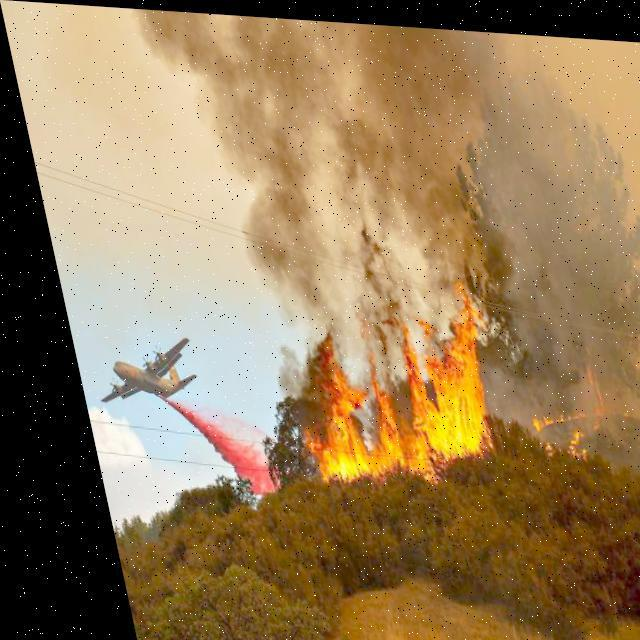Fire: (263, 289, 502, 492), (511, 380, 601, 461), (616, 322, 639, 366)
